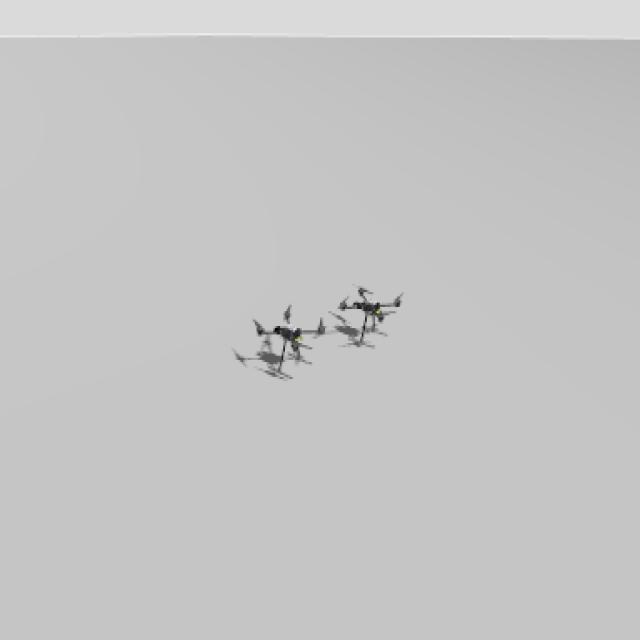drone: (250, 300, 330, 380), (338, 277, 407, 352)
